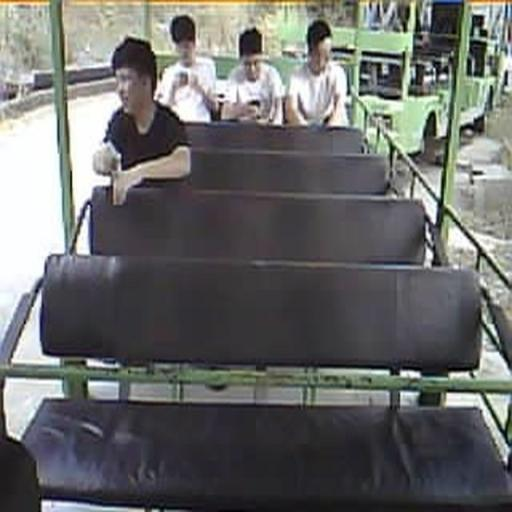persona: (92, 36, 192, 205), (154, 14, 218, 123), (286, 18, 349, 128), (220, 27, 286, 126)
